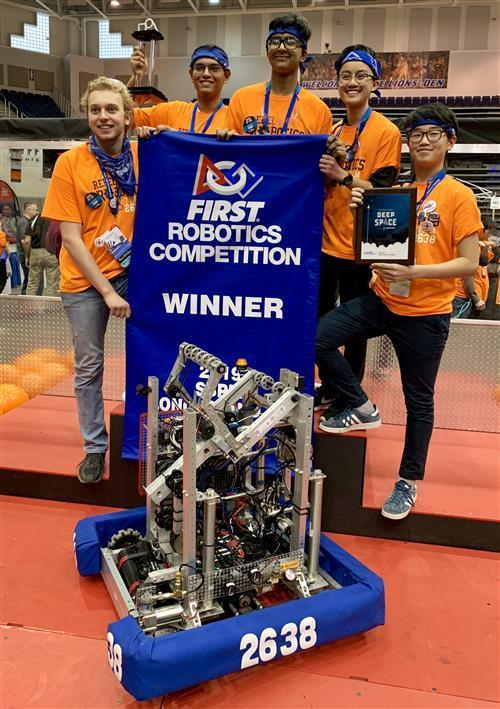robot: (69, 335, 387, 707)
